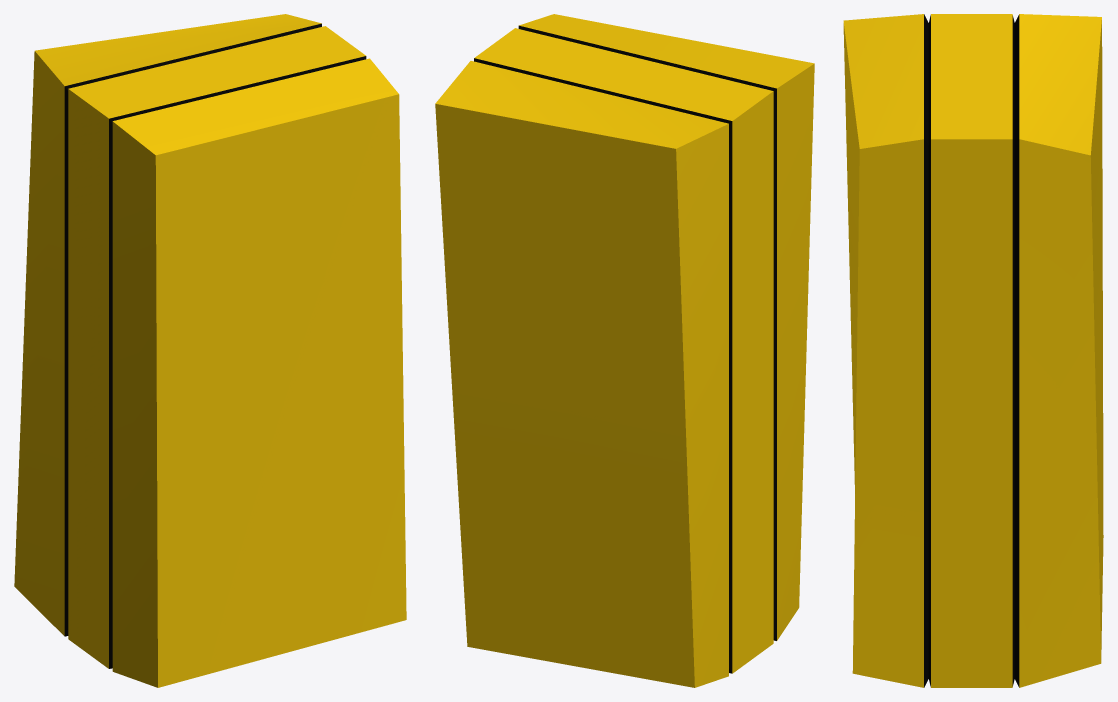
File: balya.glb
The picture shows the model from 3 angles, left to right: view 1: azimuth 30°, elevation 25°; view 2: azimuth 150°, elevation 25°; view 3: azimuth 270°, elevation 25°; orthographic projection.
Visible parts, largest first — view 1: shadeYellow, shadeBlack; view 2: shadeYellow, shadeBlack; view 3: shadeYellow, shadeBlack.
Part boxes in pixels (<box>): shadeYellow: <box>14,14,406,687</box>; shadeBlack: <box>64,23,366,668</box>; shadeYellow: <box>435,14,814,687</box>; shadeBlack: <box>474,25,776,673</box>; shadeYellow: <box>843,14,1103,687</box>; shadeBlack: <box>924,14,1019,687</box>.
Size of the model in its own units: 0.5063 by 1 by 0.4291.
